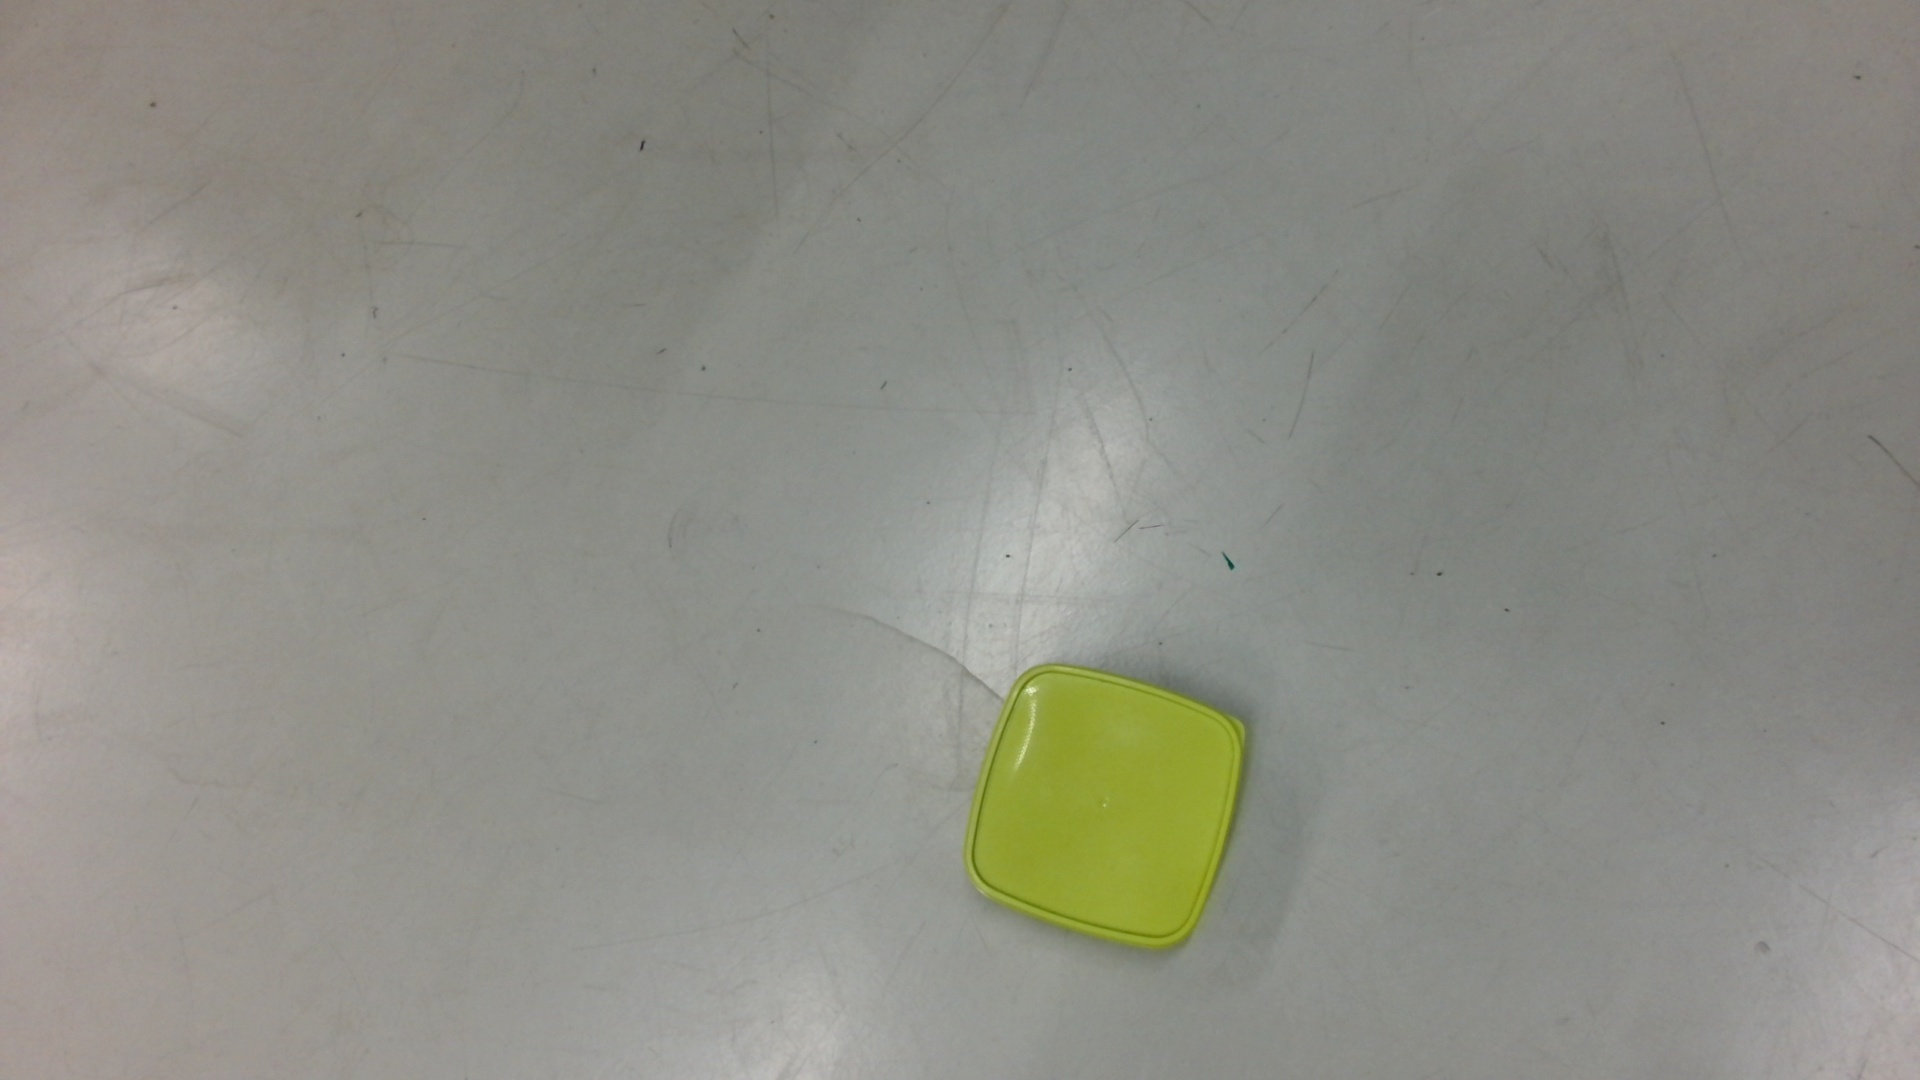Box: (959, 655, 1255, 964)
